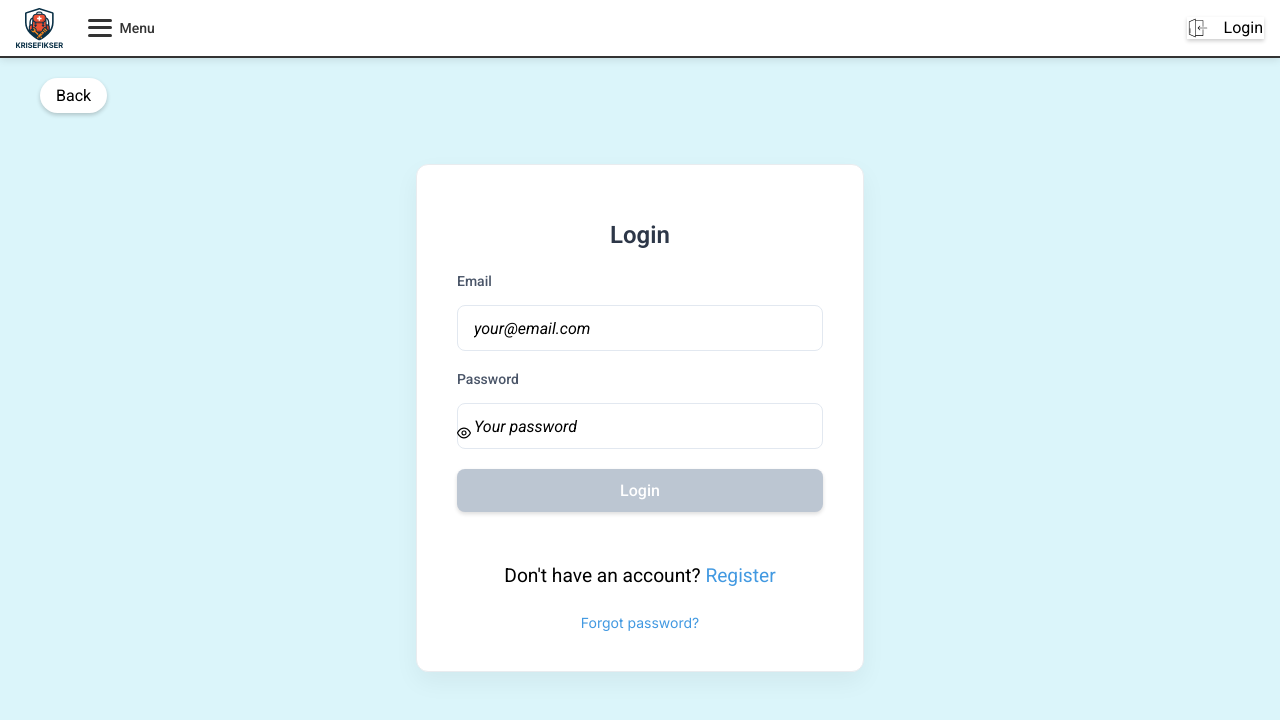
Test: Login Flow › Regular User Login › should show error for invalid credentials (wrong password)
Step 1. Type "user@example.com" into the field with id "email" → (640, 328), box [457,305,823,351]
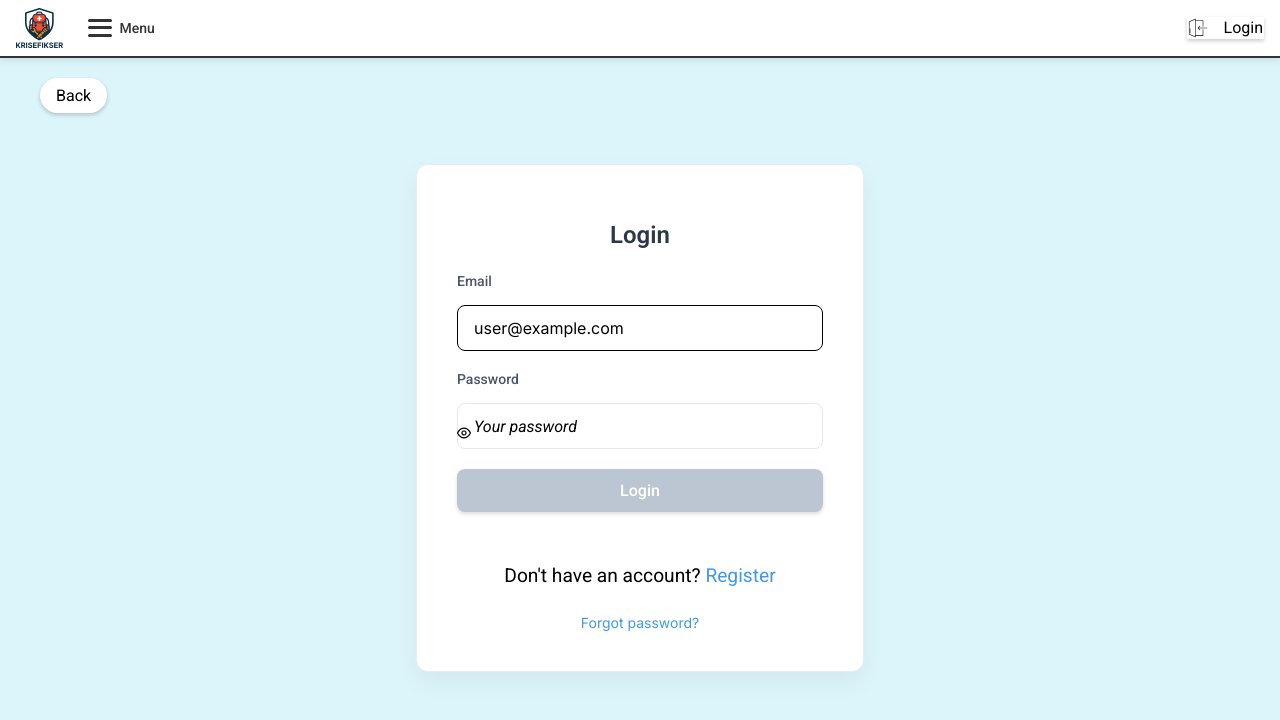
Step 2. Type "wrongpassword" into the password field labelled "Password" → (640, 426), box [457,403,823,449]
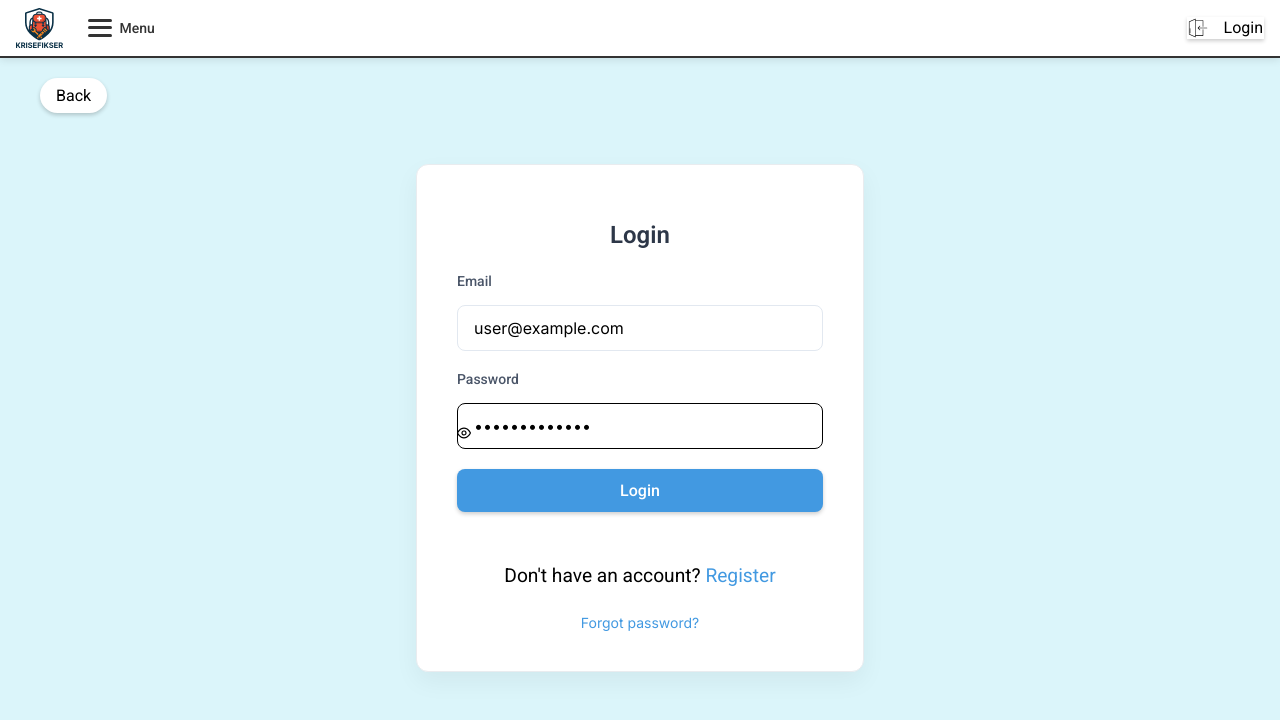
Step 3. Click the submit button → click(640, 491), box [457,469,823,512]
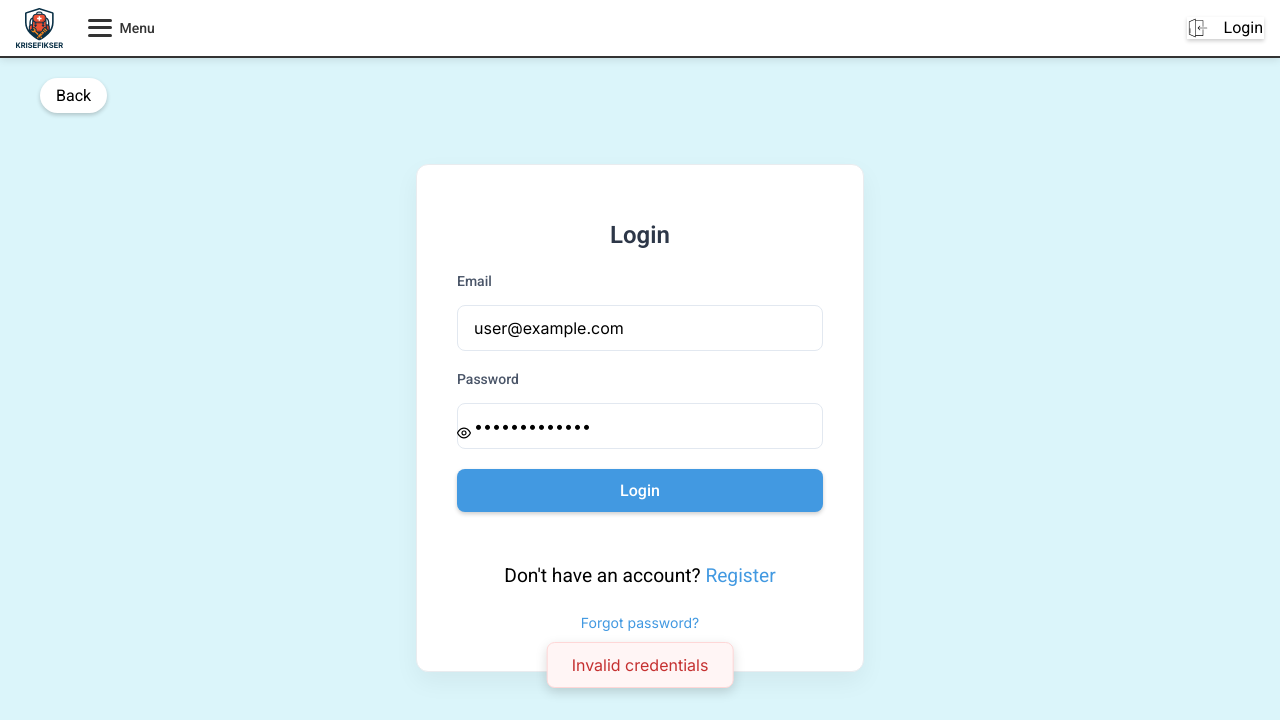
Result: the text with class "error" reads "Invalid credentials" at [572,655,709,675]
